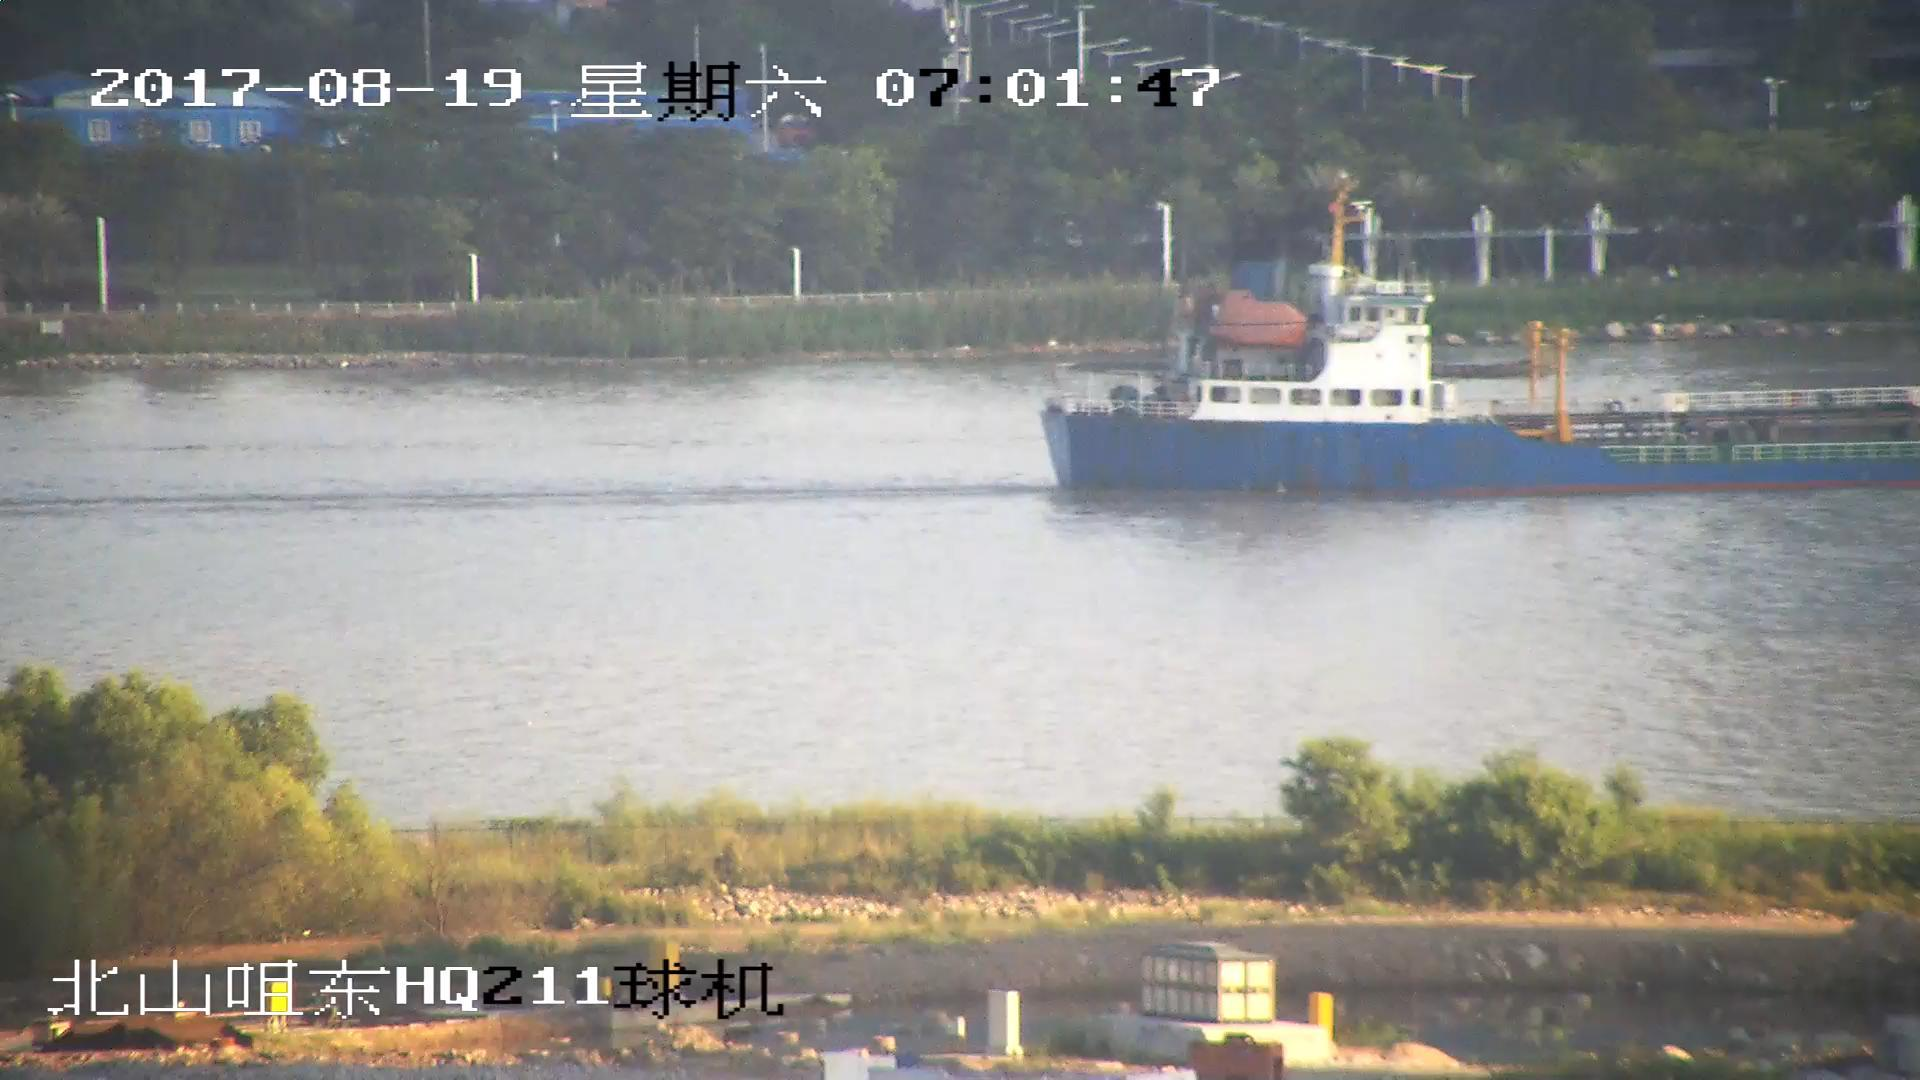Ship: (1040, 206, 1920, 497)
